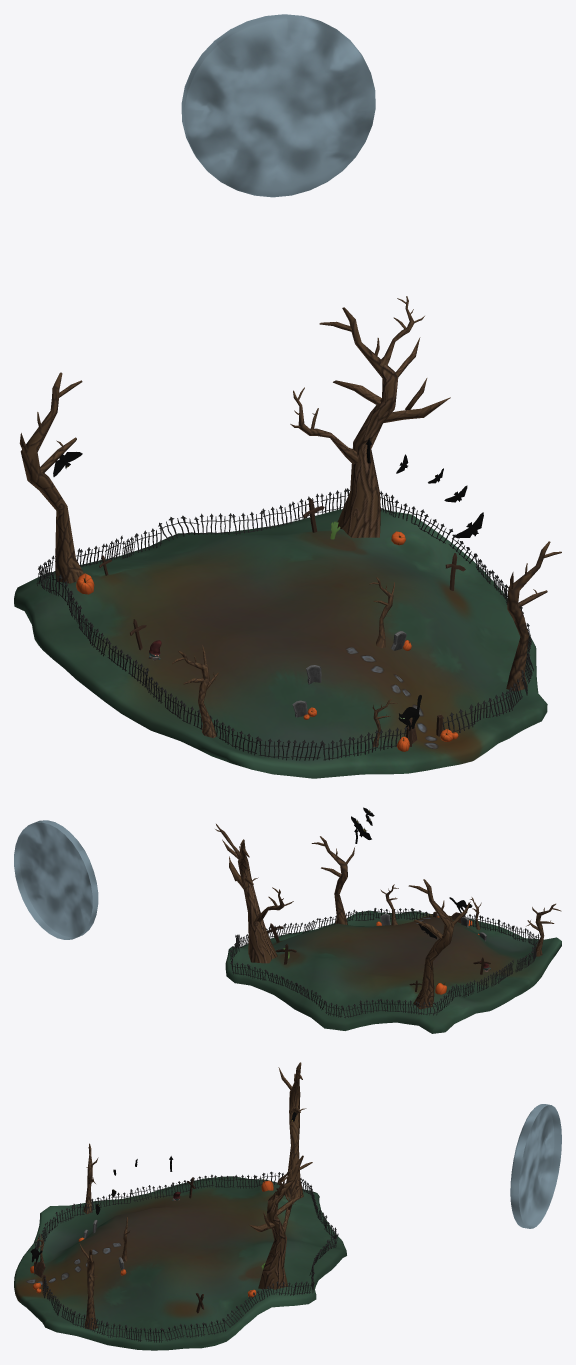
Rendered from floor.glb.
The picture shows the model from 3 angles, top to bottom: view 1: azimuth 30°, elevation 25°; view 2: azimuth 150°, elevation 25°; view 3: azimuth 270°, elevation 25°; orthographic projection. The views are drawn at different scales.
Visible parts, largest first — view 1: Base, Moon, FenceIron, LargeTree, LargeTreeLeft, MediumTreeRight, MediumTreeLeft; view 2: Base, Moon, FenceIron, LargeTree, LargeTreeLeft, MediumTreeRight, MediumTreeLeft, GraveMarkers; view 3: Base, Moon, FenceIron, LargeTree, LargeTreeLeft, MediumTreeRight, MediumTreeLeft.
Part boxes in pixels (box(x1,y1,x2,y2)): Base: box(14, 509, 547, 778); Moon: box(181, 14, 375, 197); FenceIron: box(36, 488, 533, 760); LargeTree: box(290, 296, 450, 537); LargeTreeLeft: box(19, 372, 83, 583); MediumTreeRight: box(506, 541, 561, 691); MediumTreeLeft: box(172, 645, 218, 738); Base: box(225, 910, 561, 1033); Moon: box(14, 820, 98, 939); FenceIron: box(229, 908, 539, 1018); LargeTree: box(215, 824, 293, 963); LargeTreeLeft: box(408, 879, 470, 1009); MediumTreeRight: box(311, 836, 354, 924); MediumTreeLeft: box(526, 903, 561, 956); GraveMarkers: box(267, 923, 490, 991); Base: box(14, 1176, 346, 1350); Moon: box(510, 1104, 561, 1228); FenceIron: box(34, 1171, 338, 1342); LargeTree: box(249, 1155, 312, 1289); LargeTreeLeft: box(278, 1062, 306, 1200); MediumTreeRight: box(79, 1243, 97, 1329); MediumTreeLeft: box(83, 1143, 98, 1214).
Bounding box in the file's own units: 18.95 × 13.19 × 25.18.
11 materials, 9 textured.
